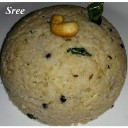venpongal: (5, 10, 127, 125)
